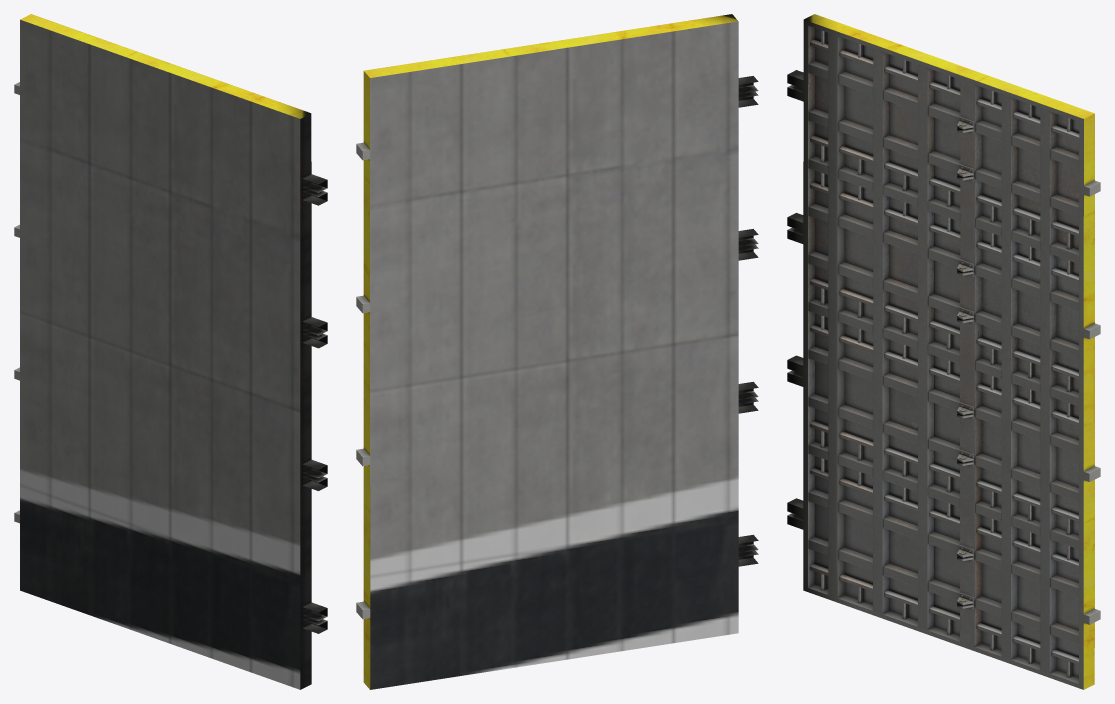
The model's file is deflecteurLat.fbx.
3 views of the same model, side by side, from view 1: azimuth 90°, elevation 25°; view 2: azimuth 150°, elevation 25°; view 3: azimuth 270°, elevation 25° (orthographic). The views are drawn at different scales.
Visible parts, largest first — view 1: ShapeIndexedFaceSet; view 2: ShapeIndexedFaceSet; view 3: ShapeIndexedFaceSet.
Boxes of the visible parts, bbox=[...] form: ShapeIndexedFaceSet: bbox=[14, 14, 327, 689]; ShapeIndexedFaceSet: bbox=[356, 14, 758, 689]; ShapeIndexedFaceSet: bbox=[787, 14, 1100, 689].
Size of the model in its own units: 3.05 by 7.27 by 3.62.
